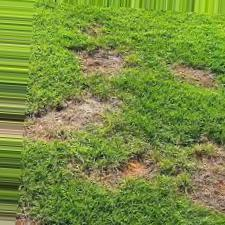patch: (80, 154, 169, 194), (34, 100, 121, 140), (177, 142, 225, 190), (166, 57, 215, 92), (84, 43, 127, 72)
